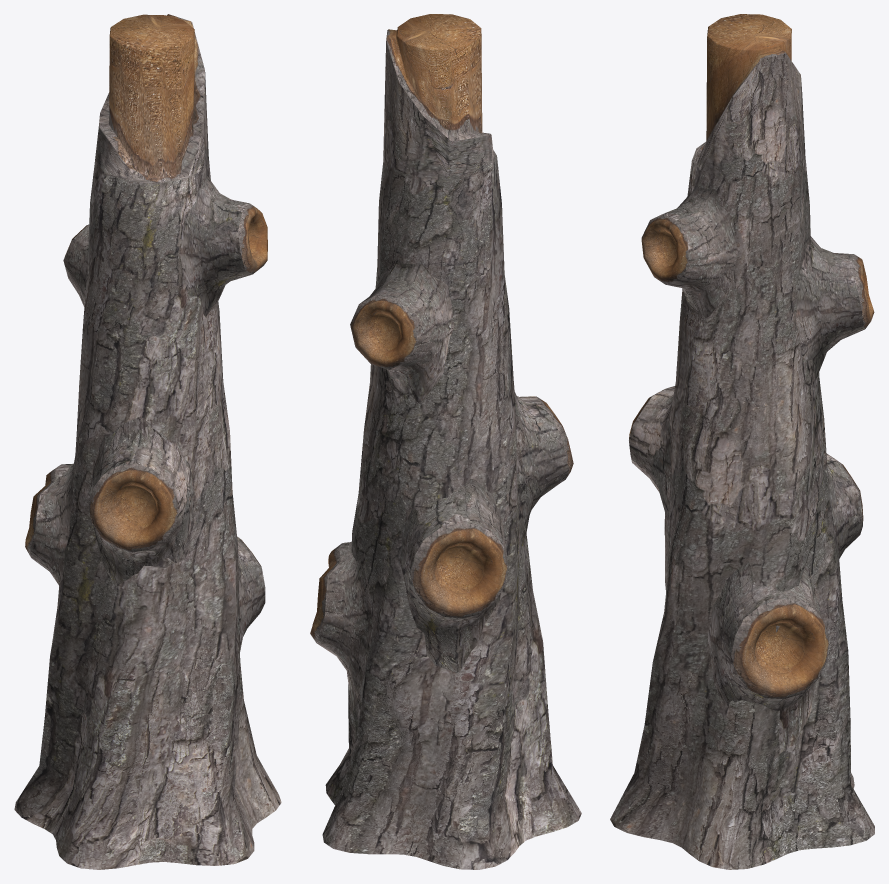
Rendered from stump.fbx.
3 renders of one model, left to right at view 1: azimuth 30°, elevation 25°; view 2: azimuth 150°, elevation 25°; view 3: azimuth 270°, elevation 25°, orthographic.
Parts seen in each view (by area): view 1: bark07_0, stump02_1; view 2: bark07_0, stump02_1; view 3: bark07_0, stump02_1.
Part boxes in pixels (x1,y1,x2,y2): bark07_0: [14, 72, 281, 869]; stump02_1: [25, 14, 267, 567]; bark07_0: [317, 41, 581, 869]; stump02_1: [310, 14, 573, 642]; bark07_0: [610, 53, 874, 869]; stump02_1: [629, 14, 874, 699].
Size of the model in its own units: 46.75 by 153 by 46.92.
